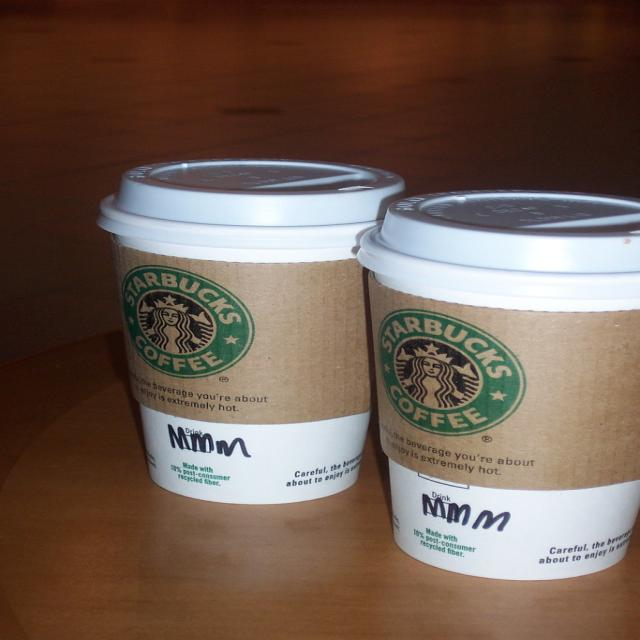starbucks: (378, 309, 529, 438), (121, 267, 258, 380)
